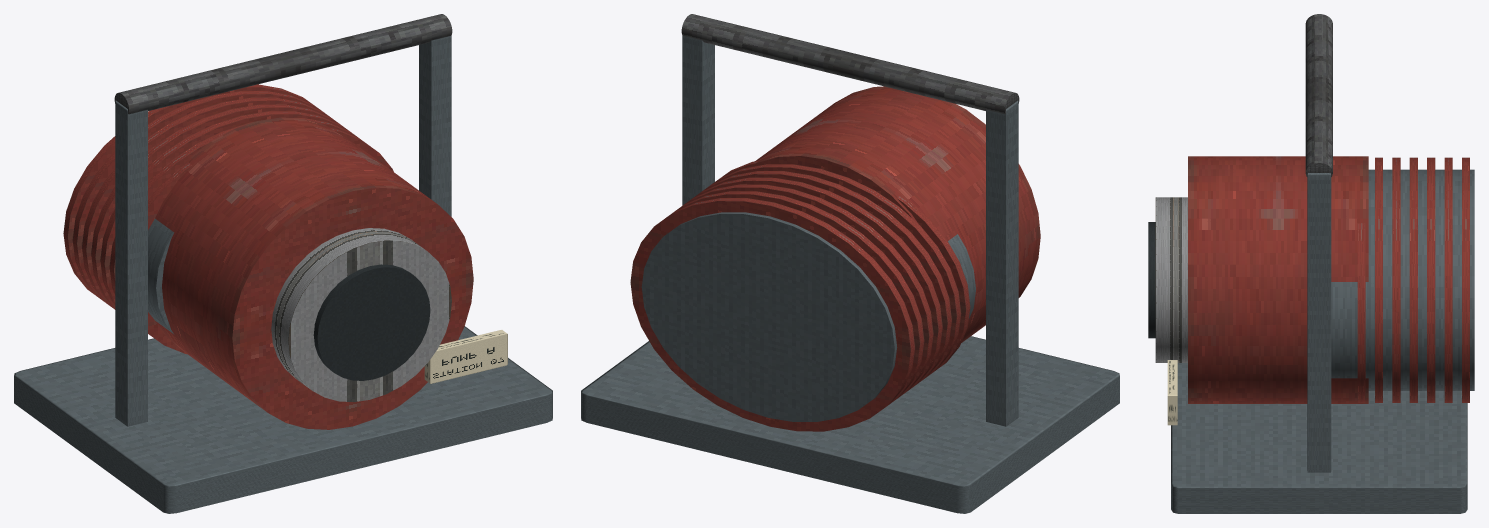
File: pump-a.glb
3 views of the same model, side by side, from view 1: azimuth 30°, elevation 25°; view 2: azimuth 150°, elevation 25°; view 3: azimuth 270°, elevation 25° (orthographic). The views are drawn at different scales.
Parts seen in each view (by area): view 1: volute, skid, cooling-fin (×7), lifting-post (×2), flange, intake, lift-grip, id-plate, motor; view 2: skid, motor, cooling-fin (×7), volute, lifting-post (×2), lift-grip; view 3: volute, skid, motor, cooling-fin (×7), lifting-post, flange, lift-grip, intake, id-plate.
Part boxes in pixels (x1,y1,x2,y2): volute: [155, 117, 473, 429]; skid: [14, 326, 552, 513]; cooling-fin (×7): [63, 84, 393, 354]; lifting-post (×2): [115, 35, 451, 426]; flange: [271, 228, 451, 401]; intake: [313, 264, 430, 380]; lift-grip: [114, 14, 452, 114]; id-plate: [424, 330, 507, 383]; motor: [148, 218, 174, 333]; skid: [581, 336, 1119, 513]; motor: [641, 212, 975, 421]; cooling-fin (×7): [630, 160, 970, 431]; volute: [748, 86, 1040, 342]; lifting-post (×2): [682, 35, 1018, 426]; lift-grip: [681, 14, 1019, 114]; volute: [1188, 156, 1368, 403]; skid: [1171, 363, 1467, 513]; motor: [1331, 169, 1474, 390]; cooling-fin (×7): [1357, 157, 1469, 402]; lifting-post: [1307, 173, 1331, 472]; flange: [1155, 197, 1187, 362]; lift-grip: [1305, 14, 1332, 177]; intake: [1148, 222, 1155, 338]; id-plate: [1167, 360, 1177, 425].
Size of the model in its own units: 0.56 by 0.49 by 0.4302.
Materials: 6 (6 with a texture image).
